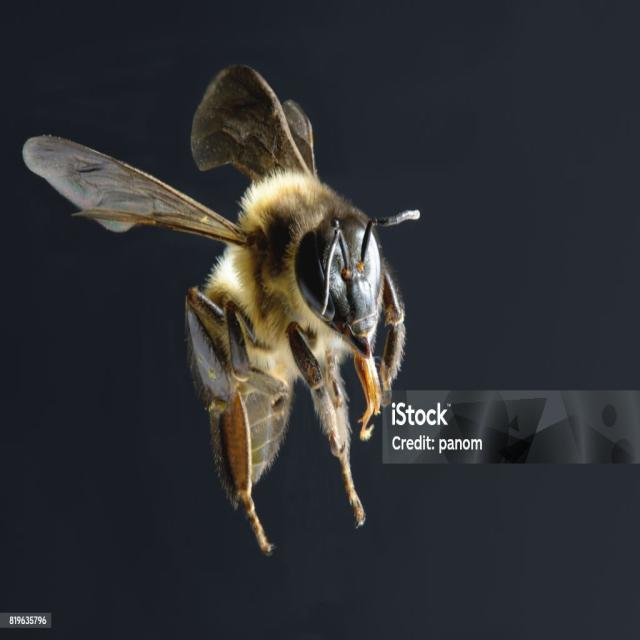bee: (22, 61, 420, 555)
